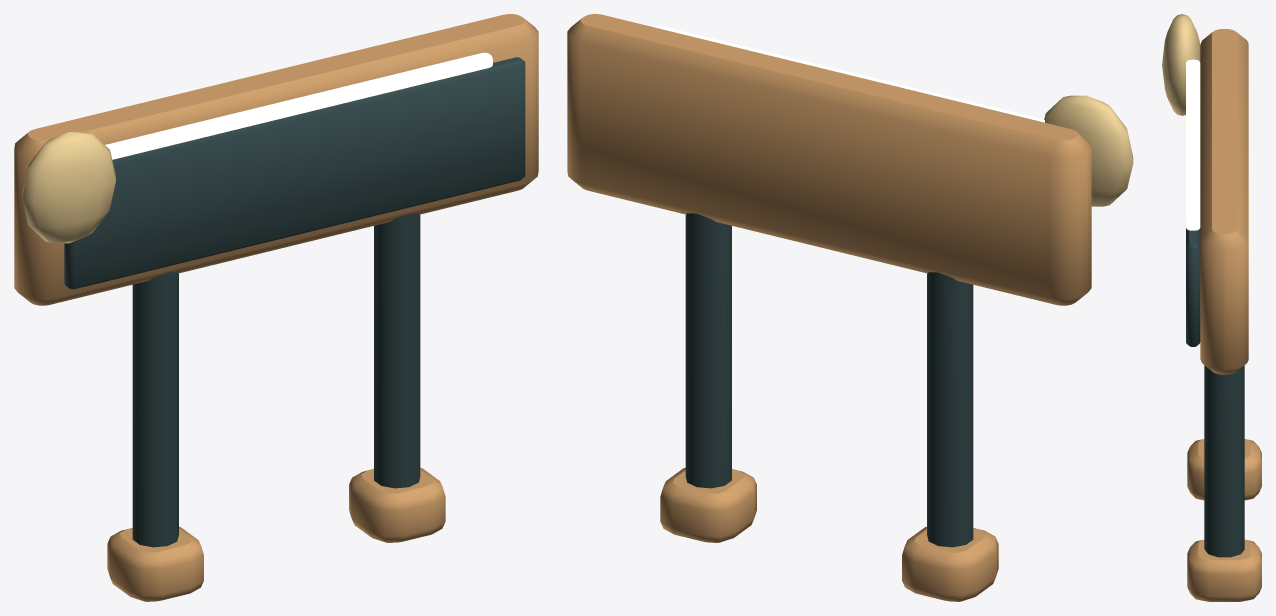
File: sign_2.glb
The picture shows the model from 3 angles, left to right: view 1: azimuth 30°, elevation 25°; view 2: azimuth 150°, elevation 25°; view 3: azimuth 270°, elevation 25°; orthographic projection. The views are drawn at different scales.
Parts seen in each view (by area): view 1: Sign; view 2: Sign; view 3: Sign.
Part boxes in pixels (x1,y1,x2,y2): Sign: [14, 14, 538, 601]; Sign: [567, 14, 1133, 601]; Sign: [1162, 14, 1261, 601].
Size of the model in its own units: 2.62 by 2.33 by 0.495.
